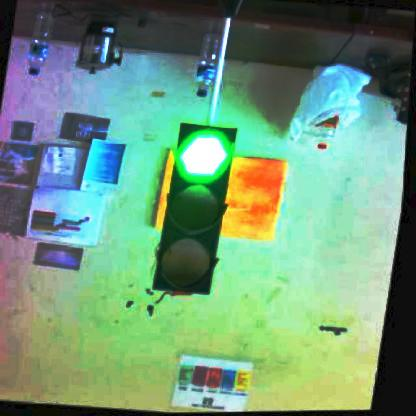Traffic Light -Green-: (157, 121, 241, 296)
